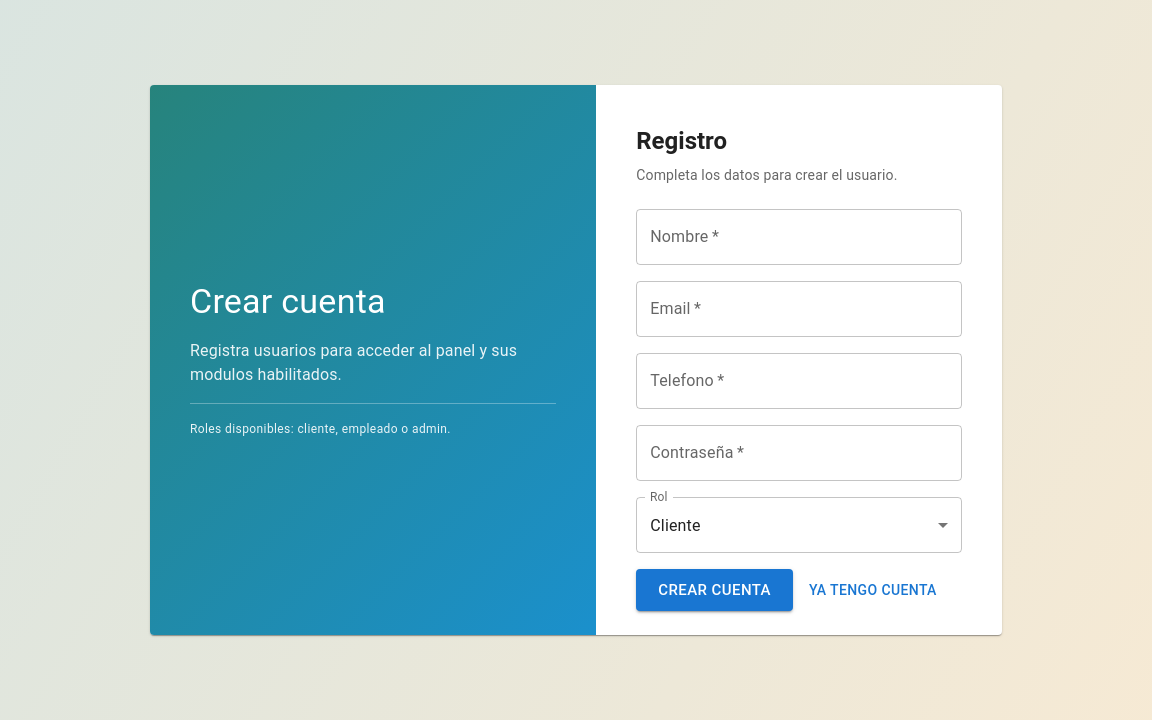
Test: Register page › hides secret code when role is cliente
The width and height of the screenshot is (1152, 720).
Expected: the field labelled "Codigo secreto" is not shown
Click the dropdown named "Rol" at [675, 525], box [650,516,701,535]
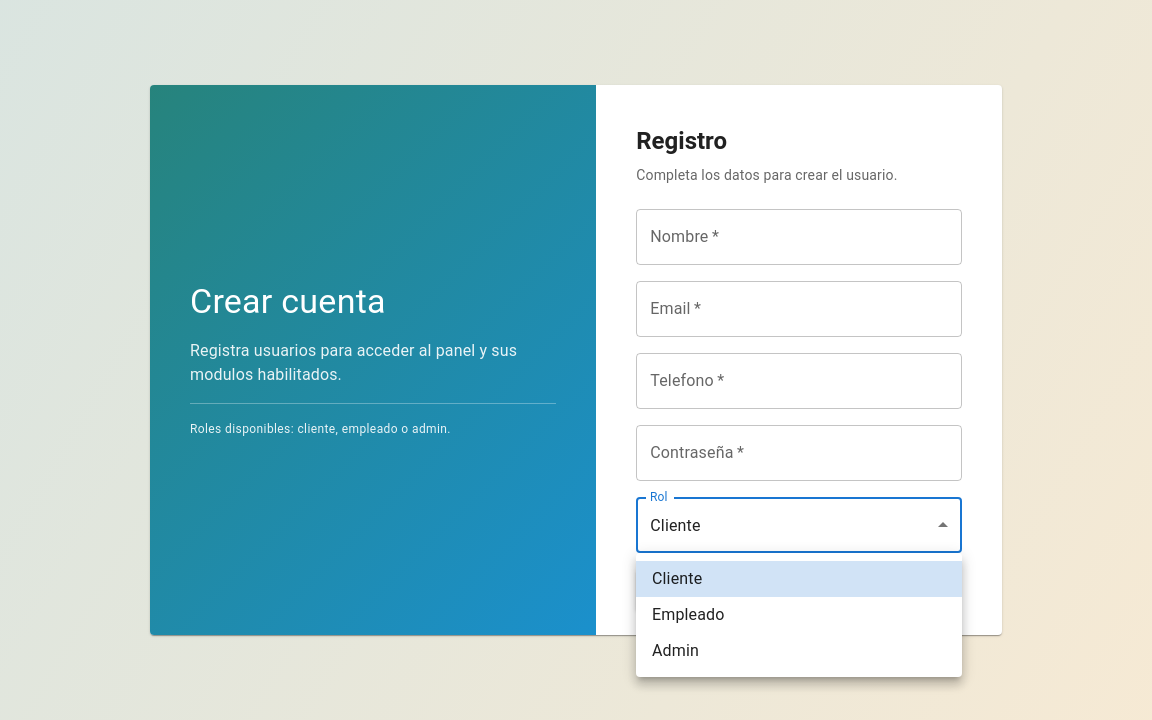
Click the option "Admin" at [676, 650], box [652,641,699,660]
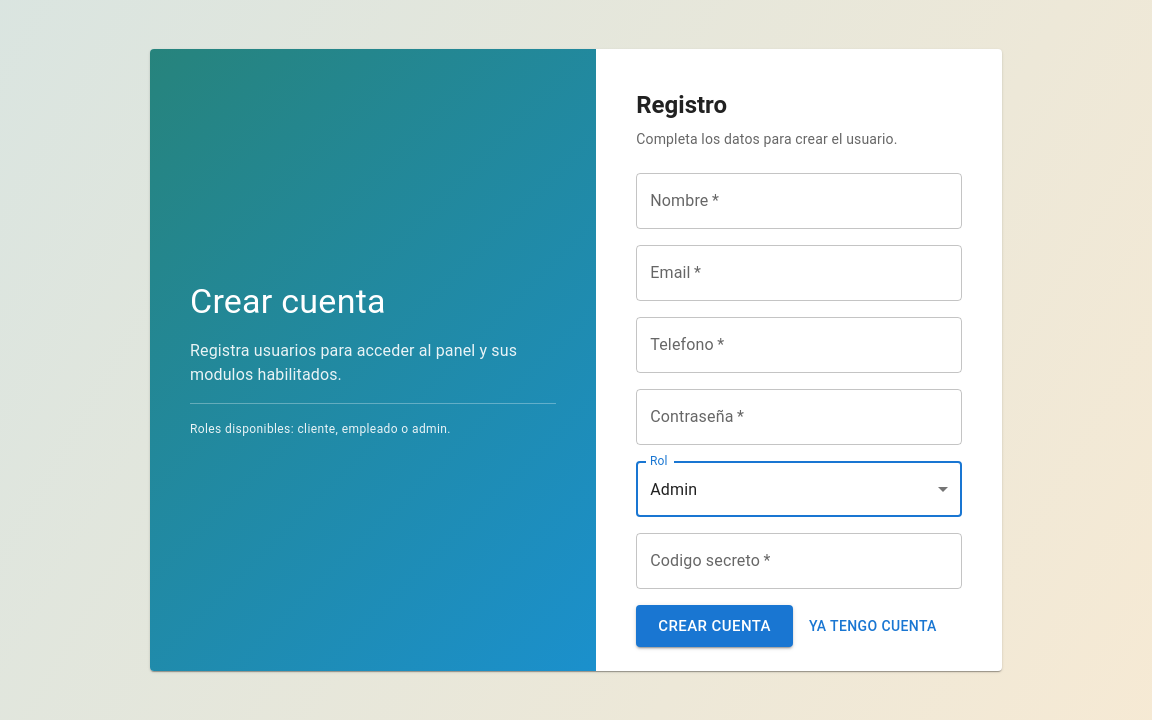
Result: the field labelled "Codigo secreto *" is shown at [636,533,962,589]
